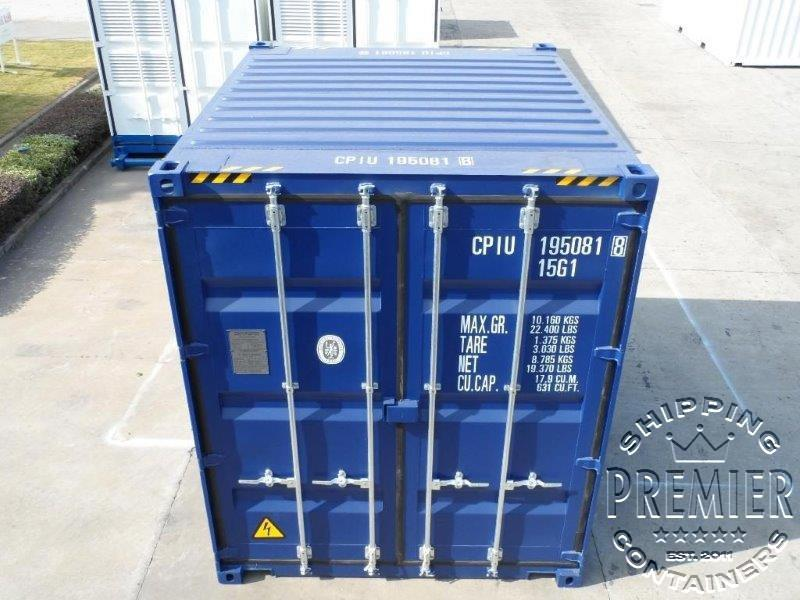ContainerNum: (469, 232, 630, 280)
